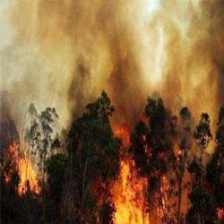fire: (109, 134, 162, 224), (8, 147, 45, 194)
smoke: (56, 11, 224, 113)
